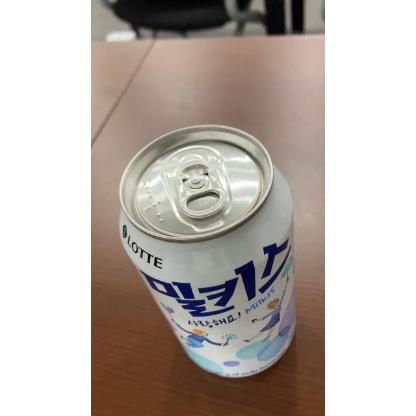Can: (115, 122, 297, 382)
